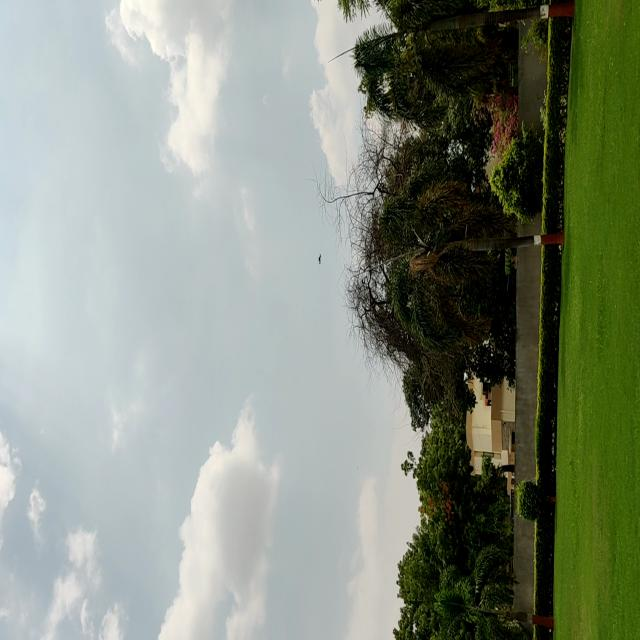drone: (314, 252, 326, 268)
